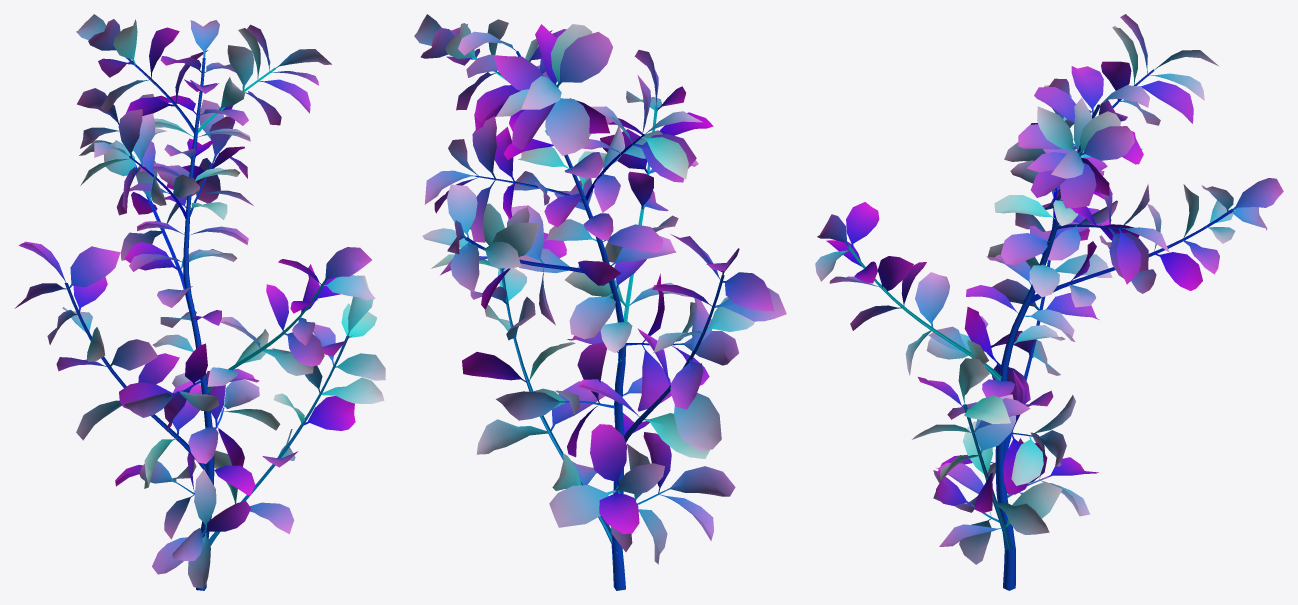
File: European_Spindle_wk1ncbxja_Mid_wk1ncbxja_VarH_LOD0.fbx
The picture shows the model from 3 angles, left to right: view 1: azimuth 30°, elevation 25°; view 2: azimuth 150°, elevation 25°; view 3: azimuth 270°, elevation 25°; orthographic projection. The views are drawn at different scales.
Visible parts, largest first — view 1: _4aff_VarH_LOD1; view 2: _4aff_VarH_LOD1; view 3: _4aff_VarH_LOD1.
Part boxes in pixels (bbox=[...]): _4aff_VarH_LOD1: bbox=[14, 14, 385, 590]; _4aff_VarH_LOD1: bbox=[414, 14, 786, 590]; _4aff_VarH_LOD1: bbox=[815, 14, 1283, 590].
Size of the model in its own units: 54.72 by 85.98 by 65.76.
